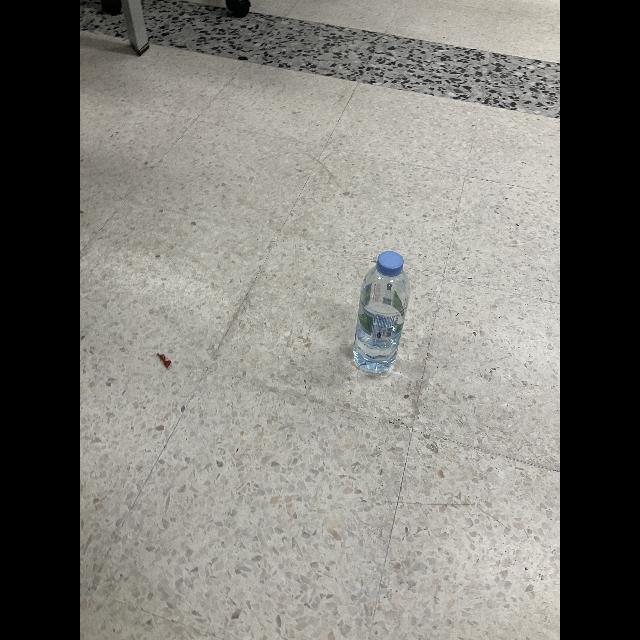plastic_bottle: (350, 250, 410, 376)
